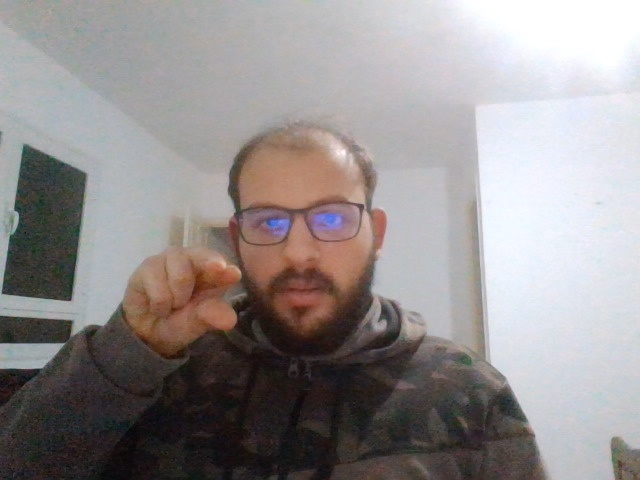No: (129, 252, 241, 337)
